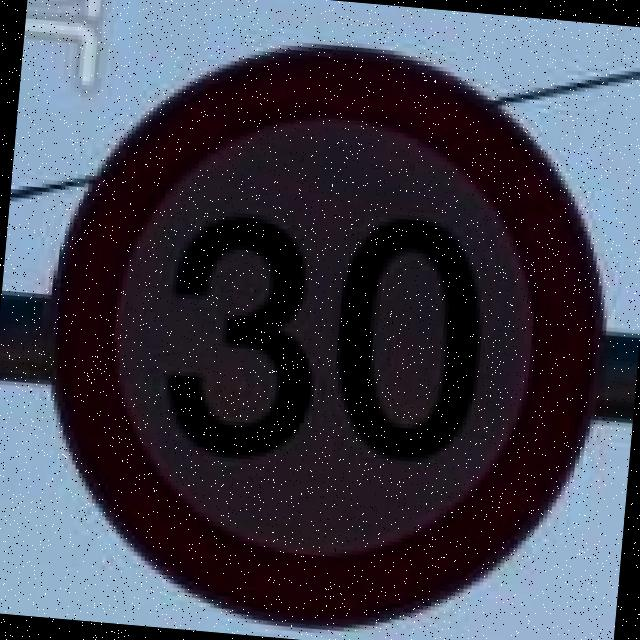Ograniczenie predkosci do 30: (24, 23, 620, 640)
